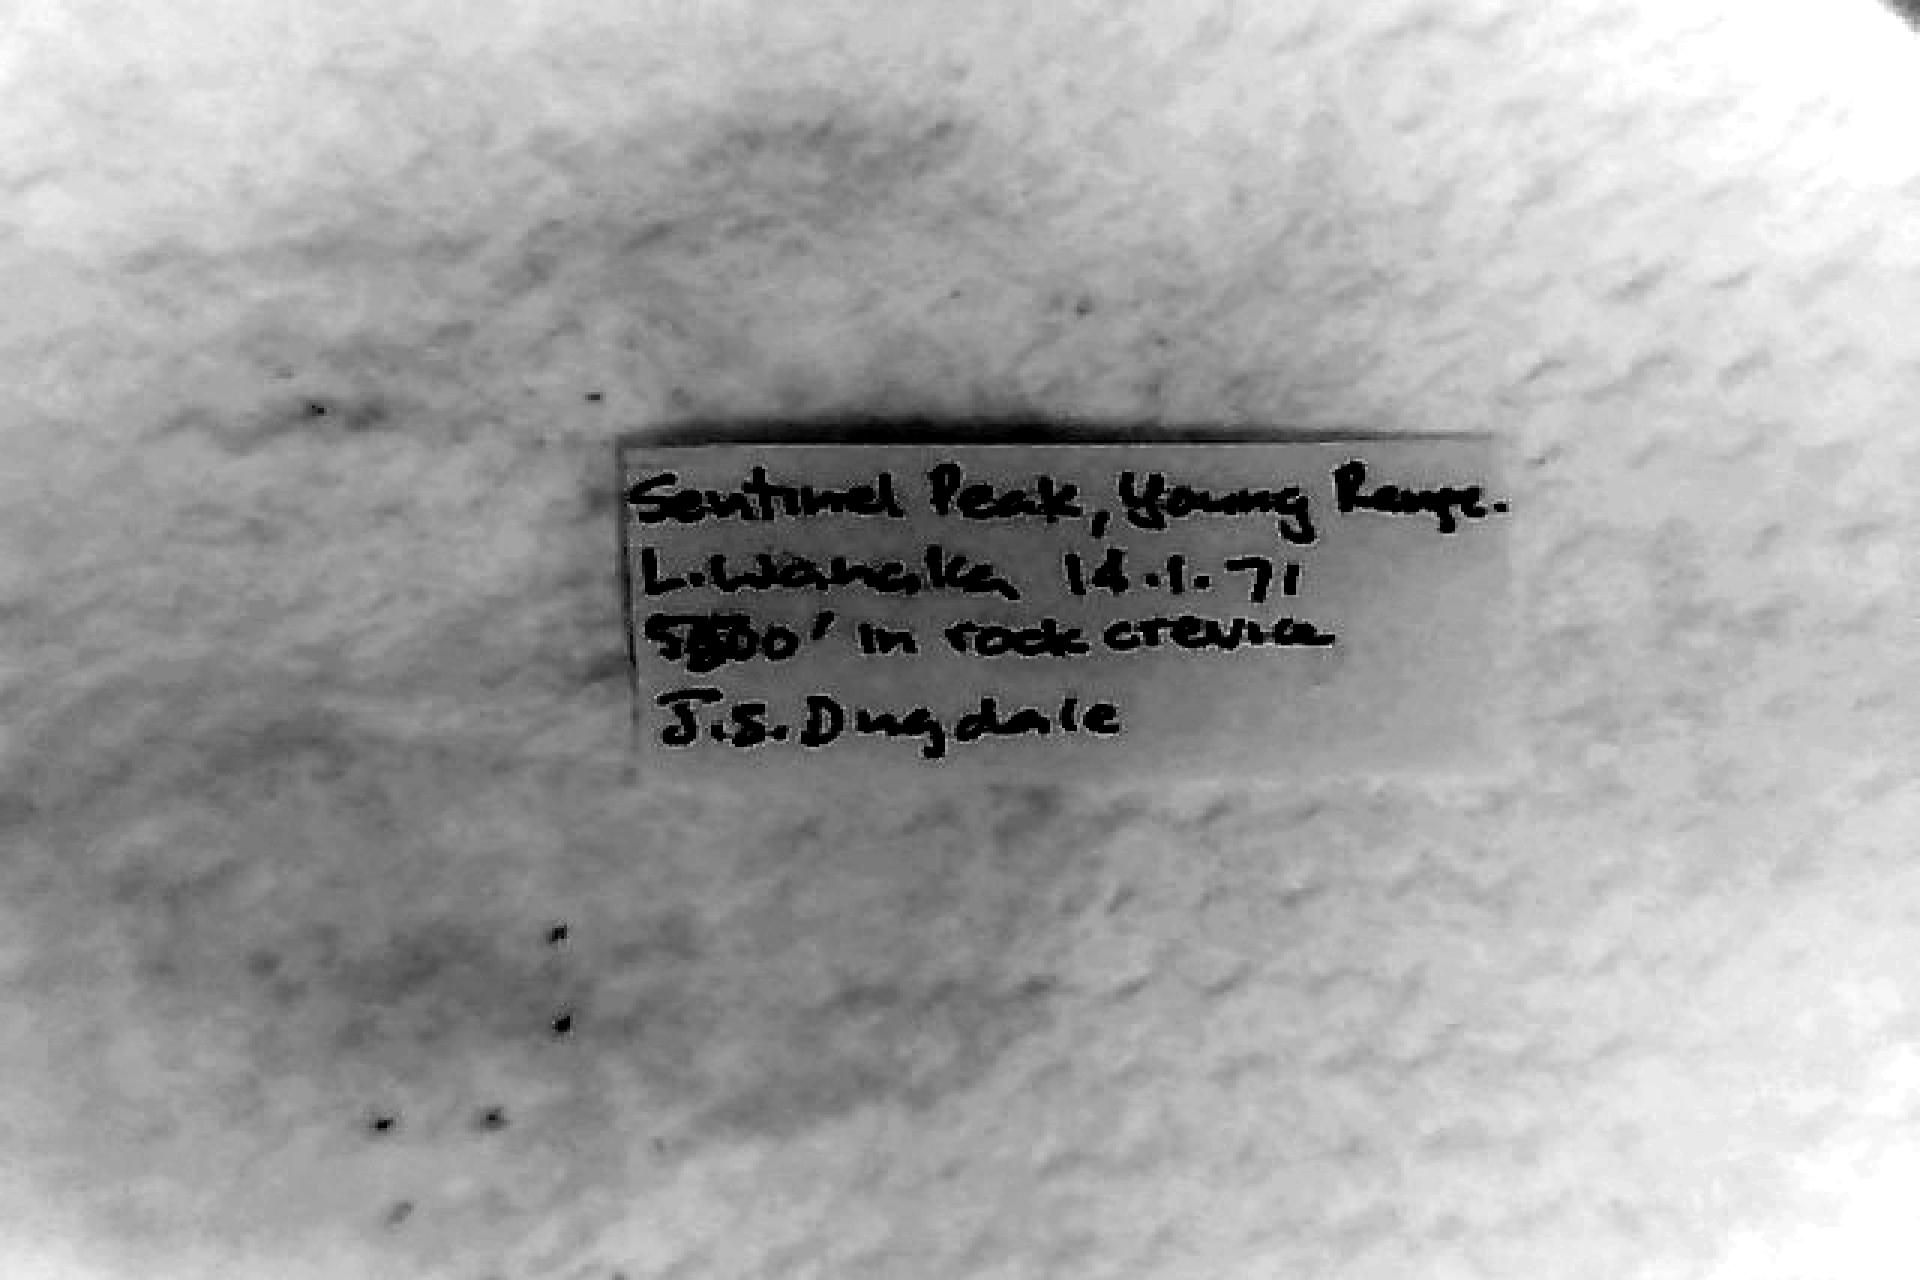hand_label: (623, 440, 1511, 771)
